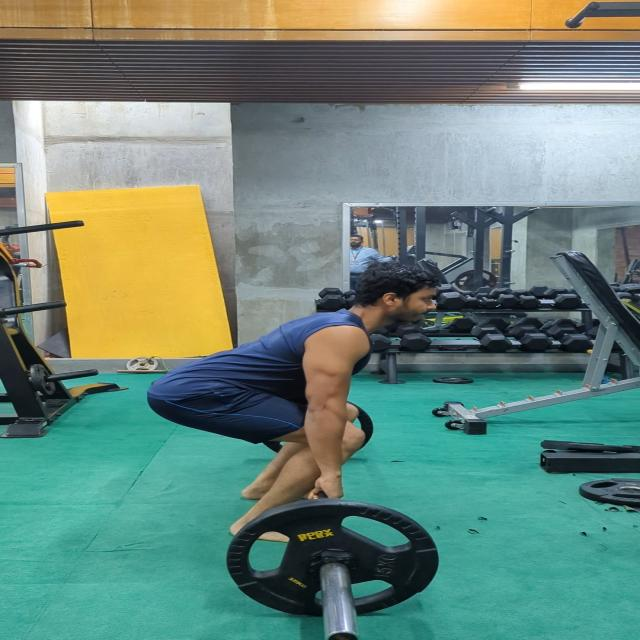Normal_Deadlifts: (142, 264, 440, 541)
